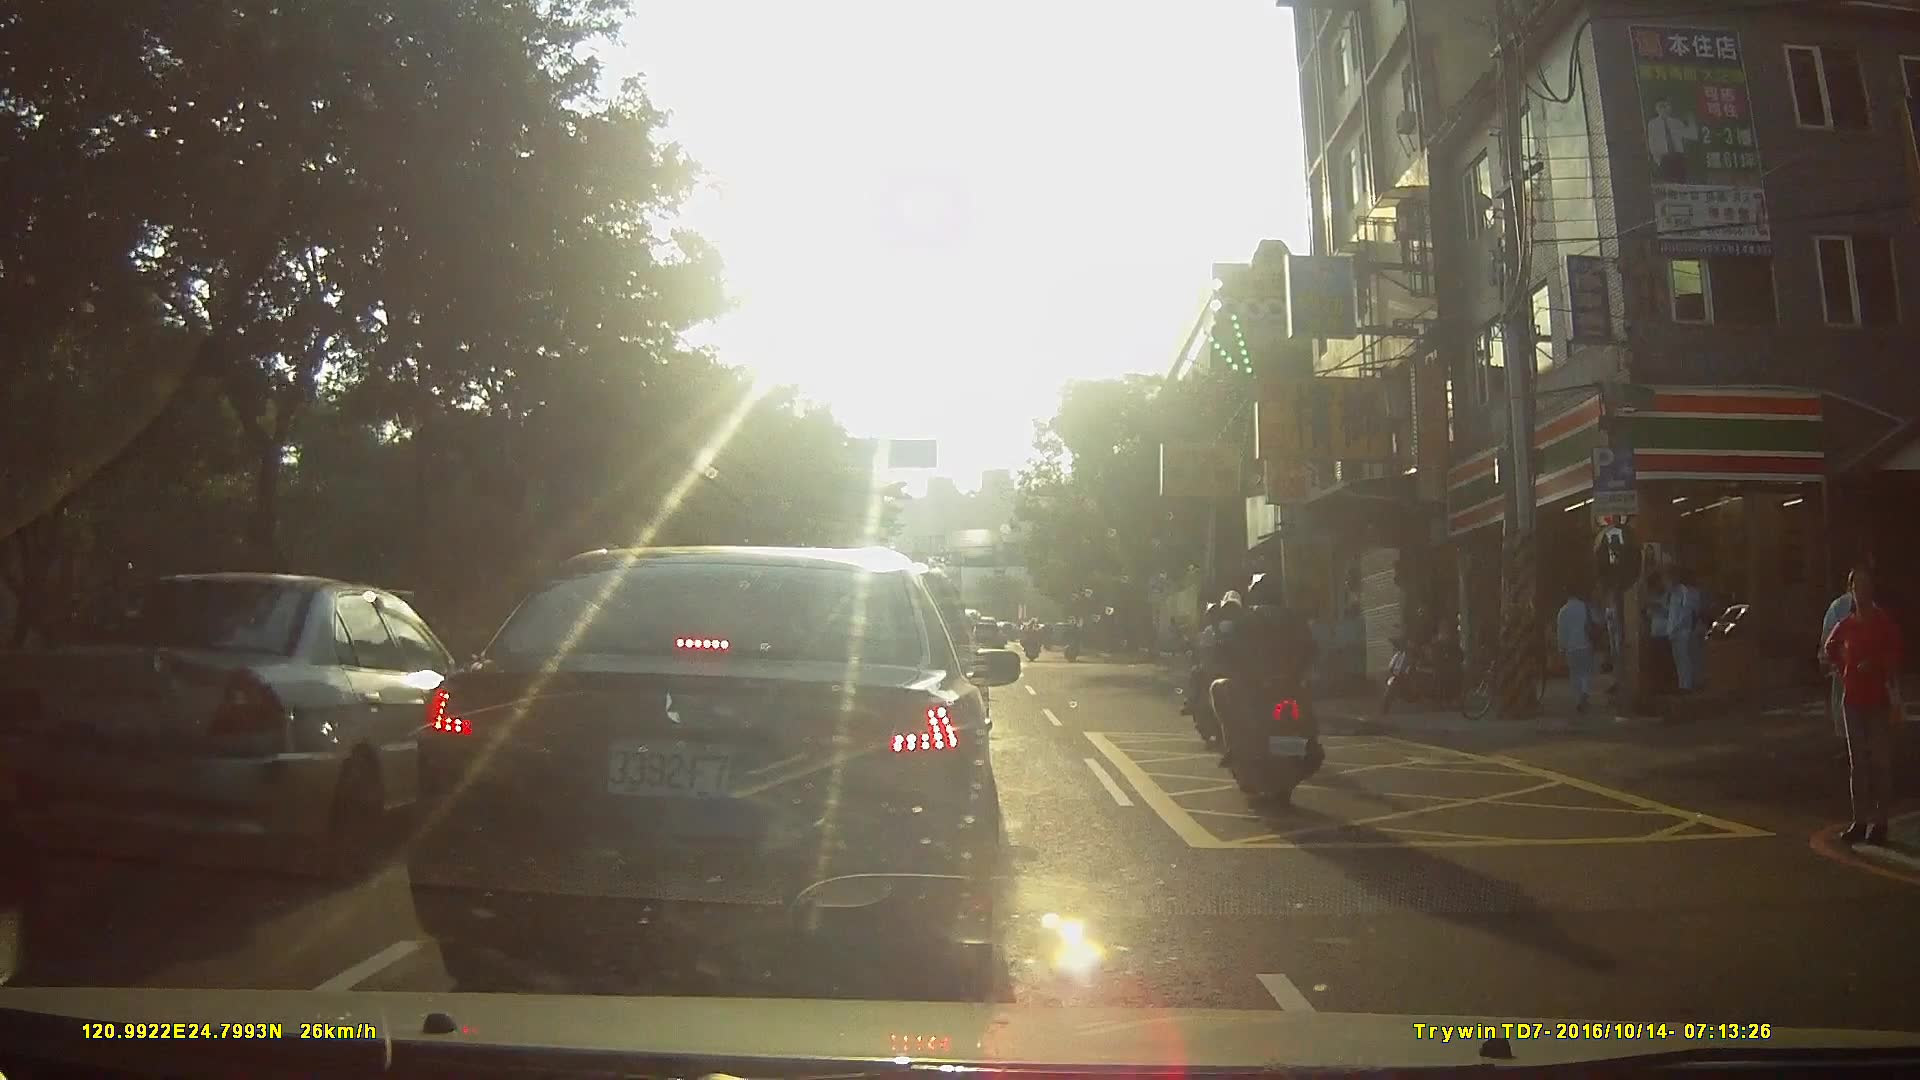pedestrian: (1822, 567, 1914, 853), (1817, 577, 1874, 774), (1553, 579, 1606, 715), (1641, 569, 1680, 704), (1657, 568, 1697, 698), (1675, 563, 1710, 695), (1604, 577, 1633, 709)
rider: (1209, 573, 1341, 806), (1062, 617, 1084, 664), (1023, 616, 1045, 665)
vehicle: (404, 538, 1038, 984), (66, 563, 496, 864)
